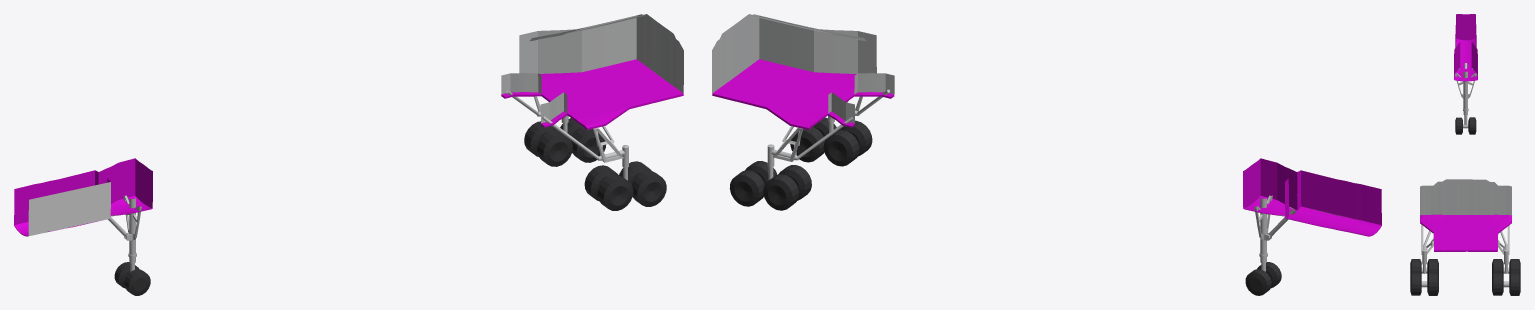
Rendered from b1.gear.glb.
3 views of the same model, side by side, from view 1: azimuth 30°, elevation 25°; view 2: azimuth 150°, elevation 25°; view 3: azimuth 270°, elevation 25° (orthographic). The views are drawn at different scales.
Visible parts, largest first — view 1: gear; view 2: gear; view 3: gear.
Boxes of the visible parts, x1,y1,x2,y2 form: gear: [14, 14, 683, 295]; gear: [712, 14, 1381, 295]; gear: [1410, 14, 1520, 295].
Bounding box in the file's own units: 23 × 4.87 × 5.08.
